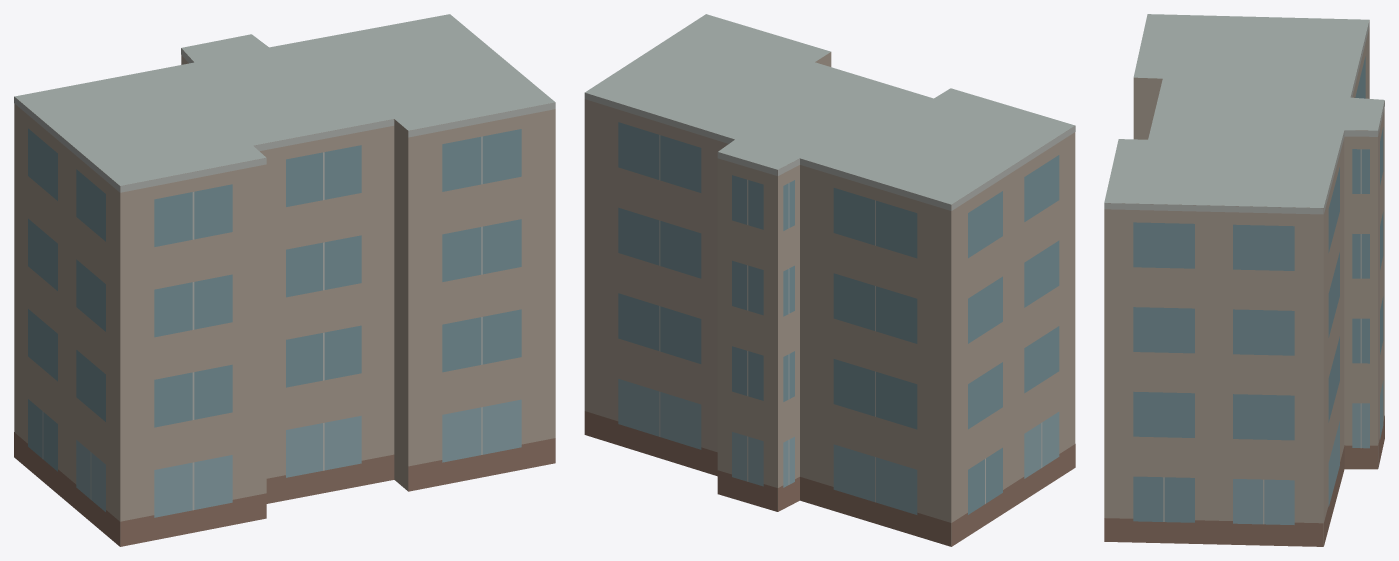
Rendered from survey-upis-32908954.glb.
3 renders of one model, left to right at view 1: azimuth 30°, elevation 25°; view 2: azimuth 150°, elevation 25°; view 3: azimuth 270°, elevation 25°, orthographic. The views are drawn at different scales.
Visible parts, largest first — view 1: survey-upis-32908954.tmp; view 2: survey-upis-32908954.tmp; view 3: survey-upis-32908954.tmp.
Part boxes in pixels (x1=…): survey-upis-32908954.tmp: x1=14, y1=14, x2=555, y2=546; survey-upis-32908954.tmp: x1=584, y1=14, x2=1075, y2=546; survey-upis-32908954.tmp: x1=1104, y1=14, x2=1384, y2=546.
Bounding box in the file's own units: 15.98 × 13 × 9.77.
